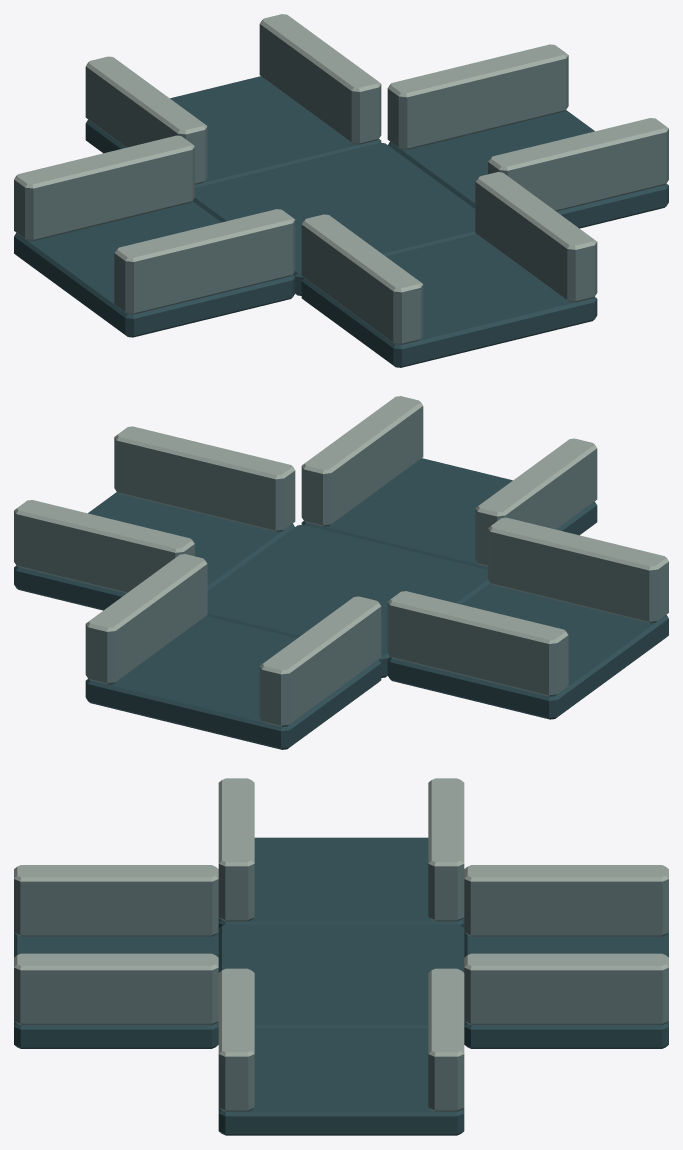
The model's file is channel-junction.glb.
3 renders of one model, top to bottom at view 1: azimuth 30°, elevation 25°; view 2: azimuth 150°, elevation 25°; view 3: azimuth 270°, elevation 25°, orthographic. The views are drawn at different scales.
Visible parts, largest first — view 1: channel-junction__body; view 2: channel-junction__body; view 3: channel-junction__body.
Part boxes in pixels (x1=…): channel-junction__body: x1=14, y1=14, x2=668, y2=367; channel-junction__body: x1=14, y1=396, x2=668, y2=749; channel-junction__body: x1=14, y1=778, x2=668, y2=1135.
Size of the model in its own units: 2 by 0.28 by 2.
